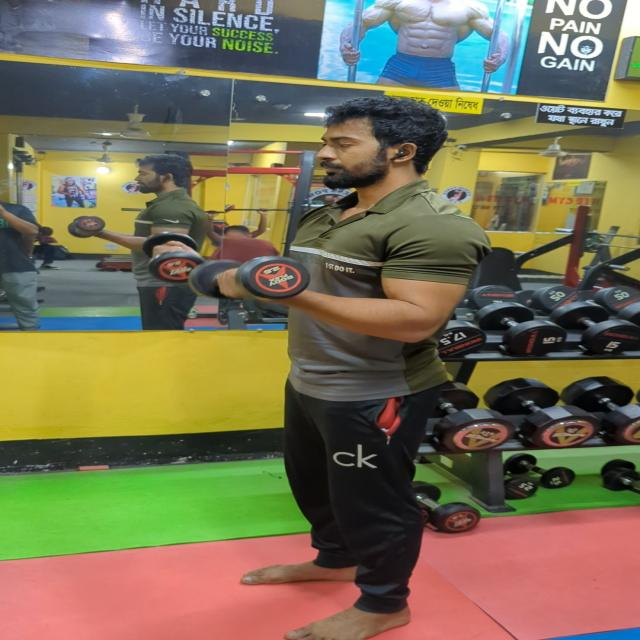Normal_DumbbellBicepCurls: (153, 77, 542, 640)
